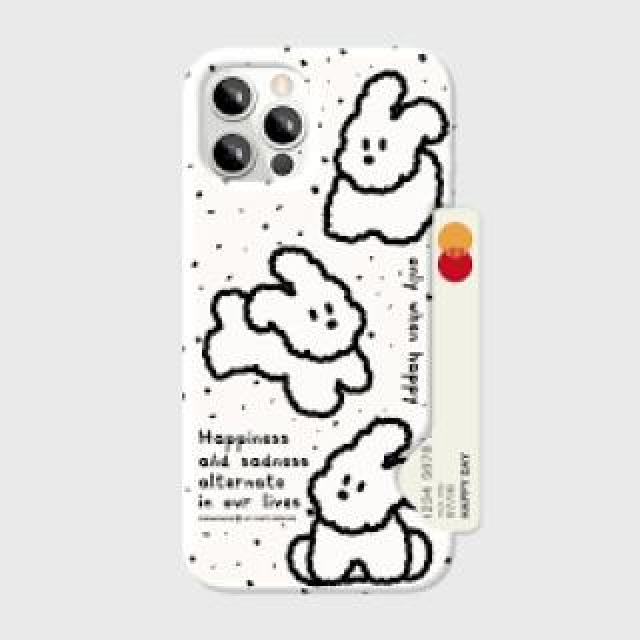smart phone: (178, 25, 464, 612)
